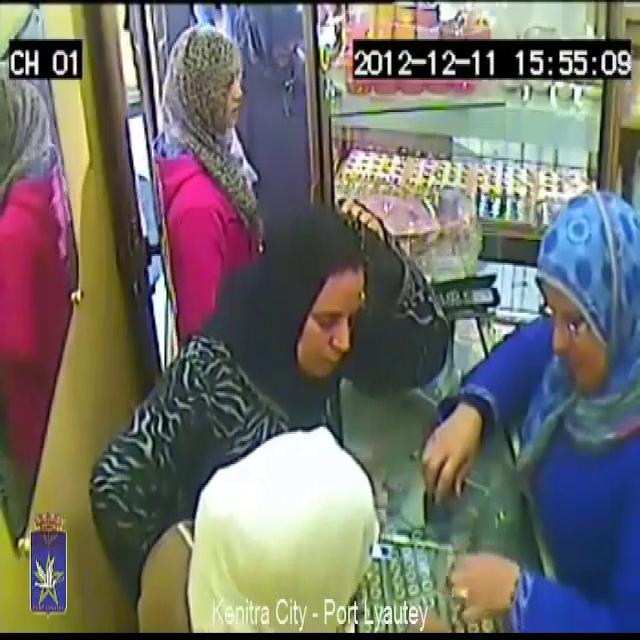normal: (466, 138, 639, 640), (139, 404, 407, 640), (133, 33, 252, 295), (247, 195, 378, 412), (228, 0, 314, 192)
